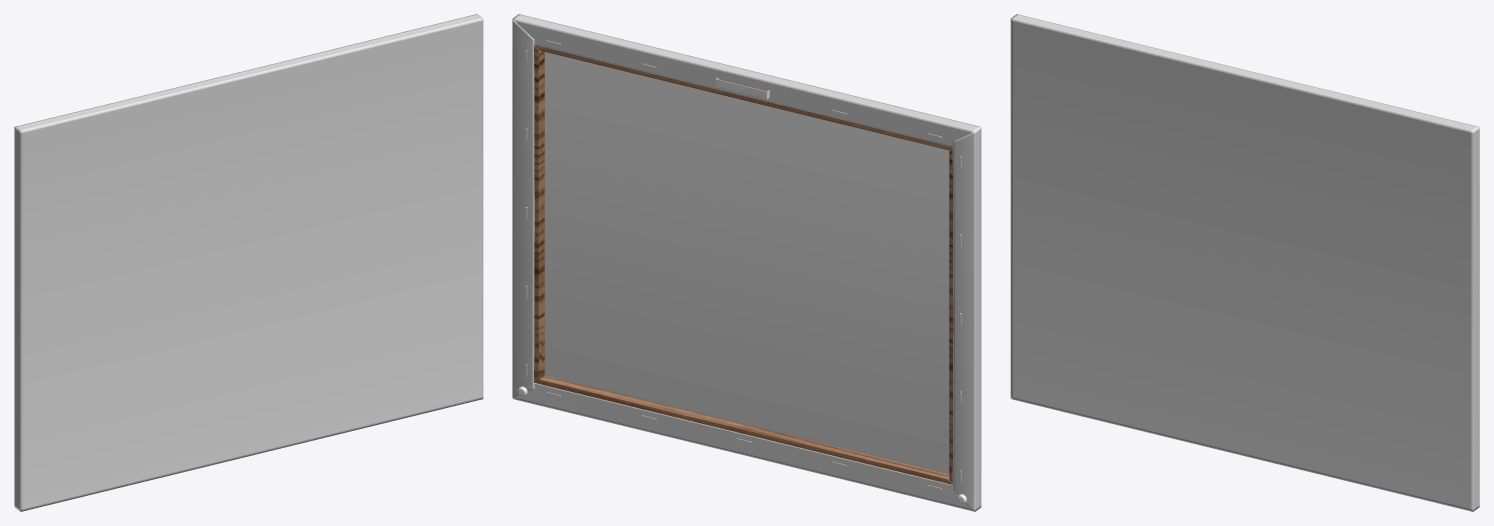
Rendered from landscape.glb.
3 views of the same model, side by side, from view 1: azimuth 30°, elevation 25°; view 2: azimuth 150°, elevation 25°; view 3: azimuth 330°, elevation 25° (orthographic).
Visible parts, largest first — view 1: 11x14 standard - landscape; view 2: 11x14 standard - landscape; view 3: 11x14 standard - landscape.
Part boxes in pixels (x1=…): 11x14 standard - landscape: x1=14, y1=14, x2=483, y2=511; 11x14 standard - landscape: x1=512, y1=14, x2=981, y2=511; 11x14 standard - landscape: x1=1010, y1=14, x2=1479, y2=511.
Bounding box in the file's own units: 14.05 × 11.04 × 0.451.
Materials: 7 (3 with a texture image).
